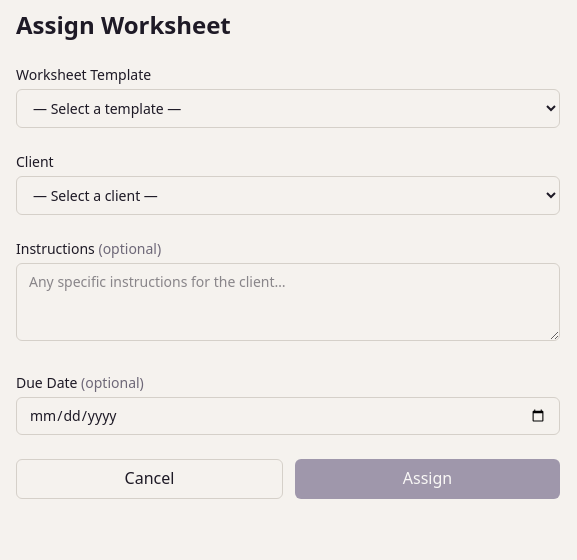
Test case: Create assignment page › shows error when submission fails
This screenshot has width=577, height=560.
Select "PHQ-9" in the dropdown labelled "Worksheet Template" at {"x": 288, "y": 108}, box [16, 89, 560, 128]
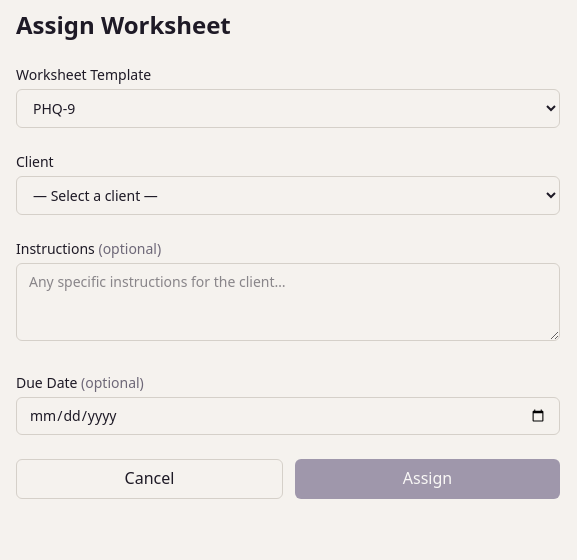
Select "Alice Dube" in the dropdown labelled "Client" at {"x": 288, "y": 196}, box [16, 176, 560, 215]
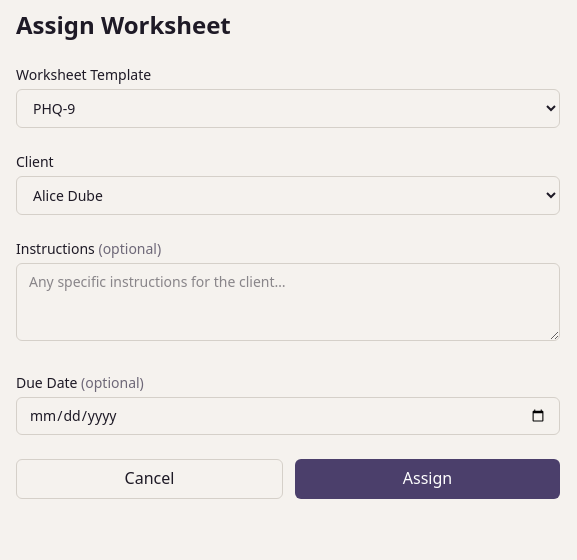
Click the button "Assign".
click(428, 479)  # box [295, 459, 560, 499]
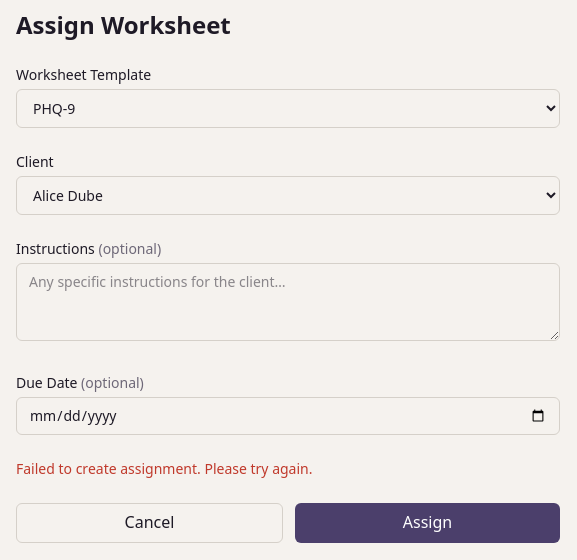
Check: the message "Failed to create assignment. Please try again." is shown, box [16, 459, 312, 478]
